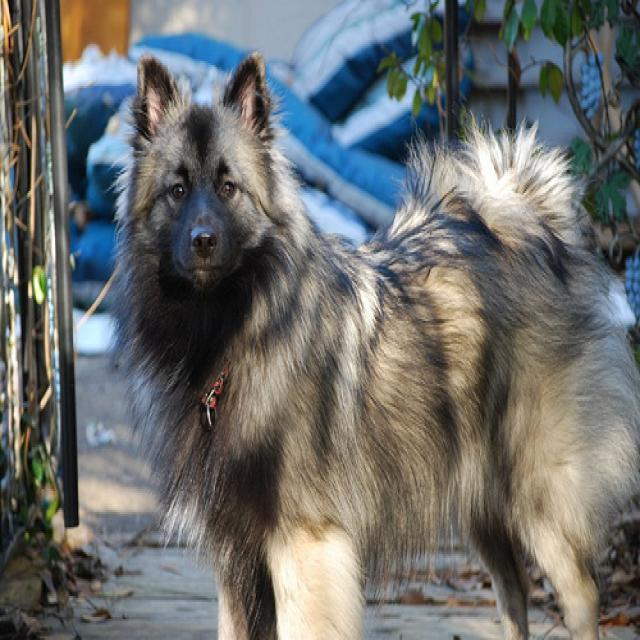dog-keeshond: (104, 38, 637, 636)
